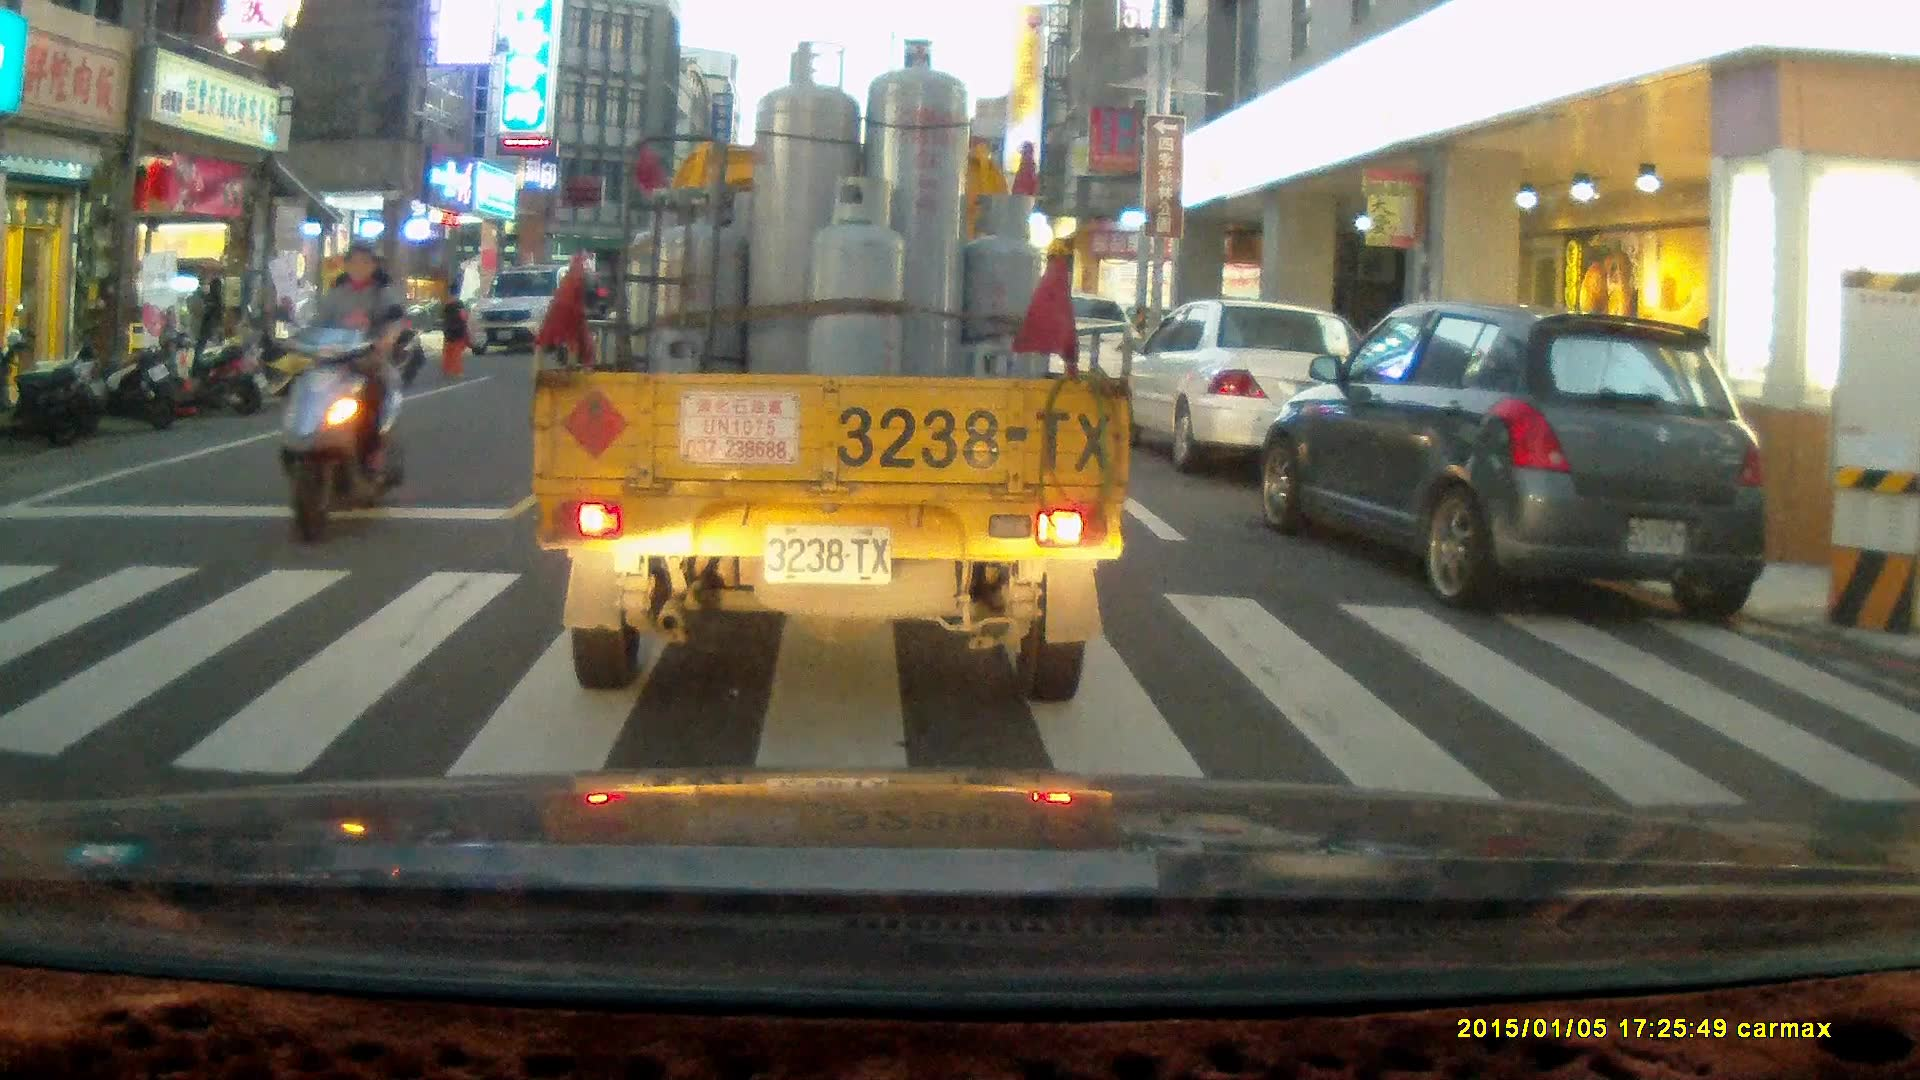pedestrian: (435, 276, 479, 375), (185, 273, 218, 378)
rider: (267, 233, 412, 544)
vehicle: (532, 61, 1128, 705), (1255, 299, 1771, 622), (1127, 301, 1379, 478), (1026, 295, 1160, 413), (466, 269, 584, 361)
